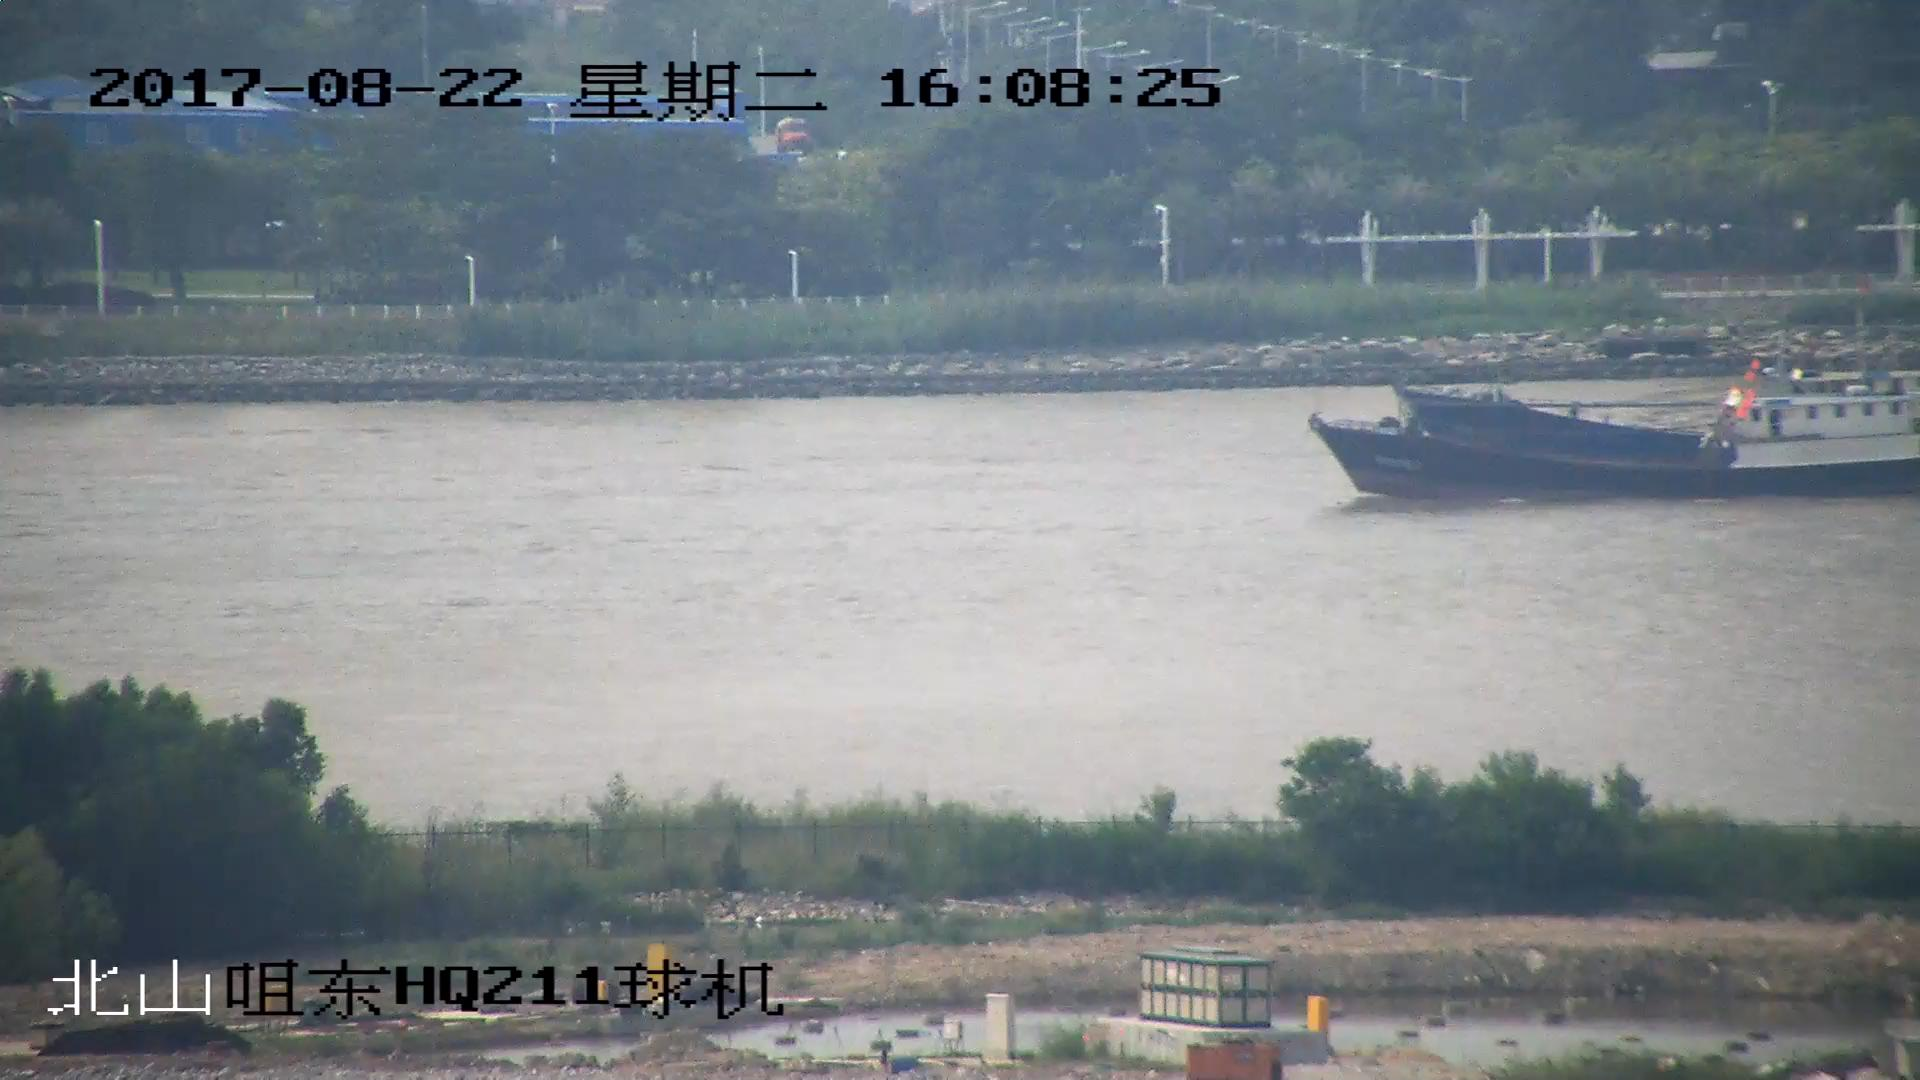fishing boat: (1316, 384, 1920, 494), (1406, 354, 1920, 451)
